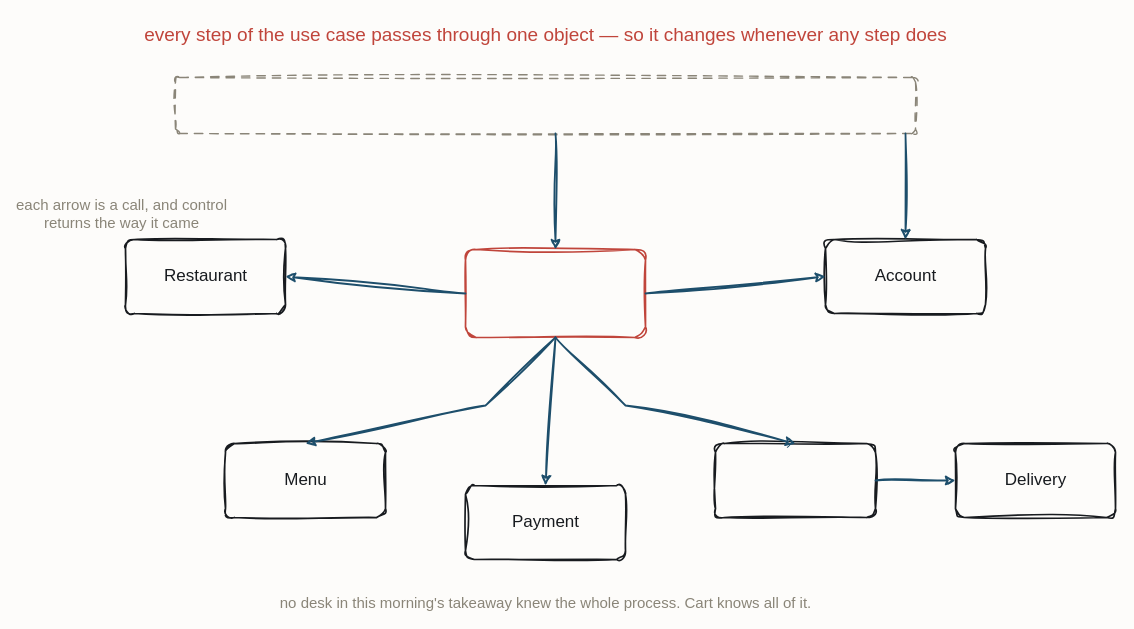
Image size: 1134x629. Some labels were removed from this diagram. The centre of each missing label's shape, as x and y in pixels:
"Cart" belongs at (555,293).
"main — the entry point" belongs at (545,105).
"Order" belongs at (795,480).
